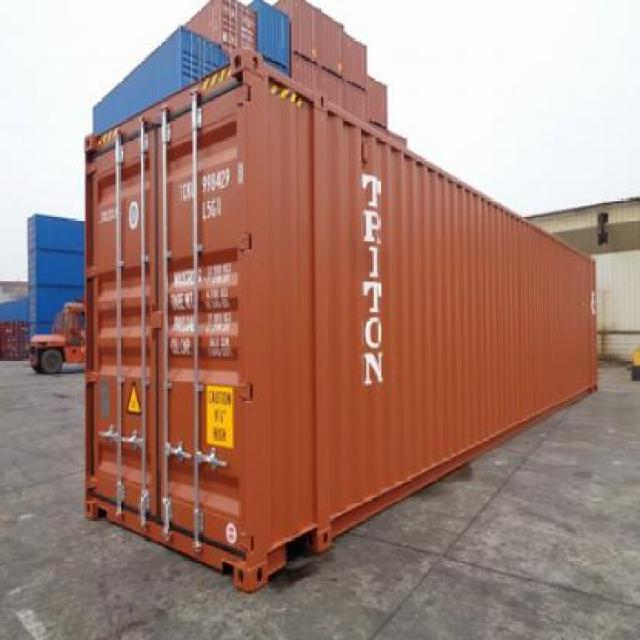ISO: (196, 196, 224, 222)
container_number: (178, 156, 248, 200)
